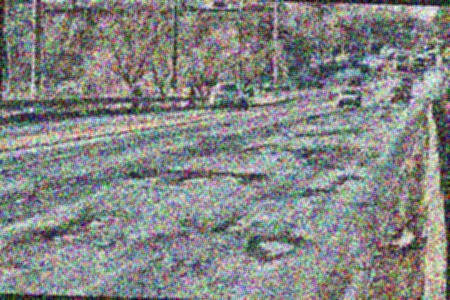pothole: (40, 210, 129, 242), (245, 233, 308, 263), (303, 173, 363, 199), (210, 218, 248, 236), (238, 141, 276, 157), (166, 166, 219, 176), (238, 170, 269, 185), (178, 173, 214, 184), (299, 146, 328, 159), (127, 169, 149, 180), (357, 144, 373, 151), (283, 131, 298, 138)
